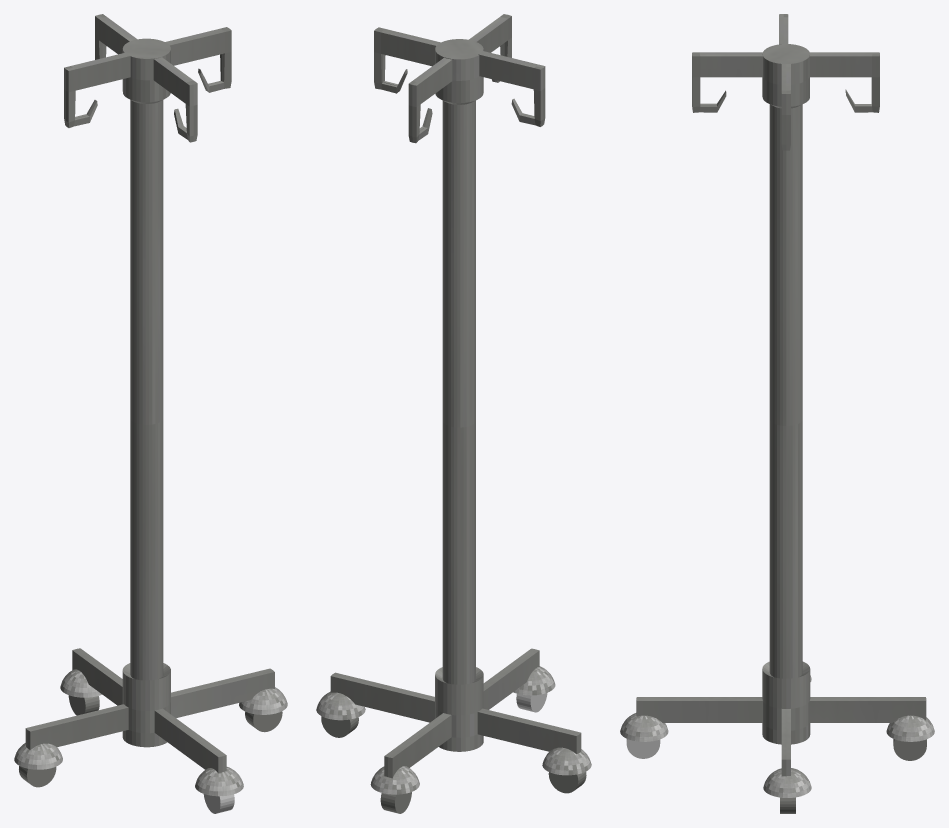
File: holder.gltf
The picture shows the model from 3 angles, left to right: view 1: azimuth 30°, elevation 25°; view 2: azimuth 150°, elevation 25°; view 3: azimuth 270°, elevation 25°; orthographic projection.
Parts seen in each view (by area): view 1: Stange, Radgruenoben.001, Radgruenoben.003, Radgruenoben.002, Radgruenoben, Radorange, Radblau; view 2: Stange, Radgruenoben.003, Radgruenoben, Radgruenoben.002, Radgruenoben.001, Radorange, Radblau, Radgruen; view 3: Stange, Radgruenoben.002, Radgruenoben.001, Radgruenoben, Radgruen.
Boxes of the visible parts, <box> form: Stange: <box>25,14,274,773</box>; Radgruenoben.001: <box>195,767,243,796</box>; Radgruenoben.003: <box>14,743,62,769</box>; Radgruenoben.002: <box>239,687,287,714</box>; Radgruenoben: <box>60,669,101,697</box>; Radorange: <box>19,766,56,787</box>; Radblau: <box>245,711,282,732</box>; Stange: <box>330,14,581,778</box>; Radgruenoben.003: <box>542,747,591,775</box>; Radgruenoben: <box>370,766,419,794</box>; Radgruenoben.002: <box>316,691,365,720</box>; Radgruenoben.001: <box>513,666,555,695</box>; Radorange: <box>548,772,586,793</box>; Radblau: <box>321,716,358,737</box>; Radgruen: <box>380,792,411,813</box>; Stange: <box>636,14,926,776</box>; Radgruenoben.002: <box>763,768,811,797</box>; Radgruenoben.001: <box>620,713,668,741</box>; Radgruenoben: <box>886,715,934,741</box>; Radgruen: <box>893,739,926,760</box>.
Size of the model in its own units: 1.38 by 3.51 by 1.42.
